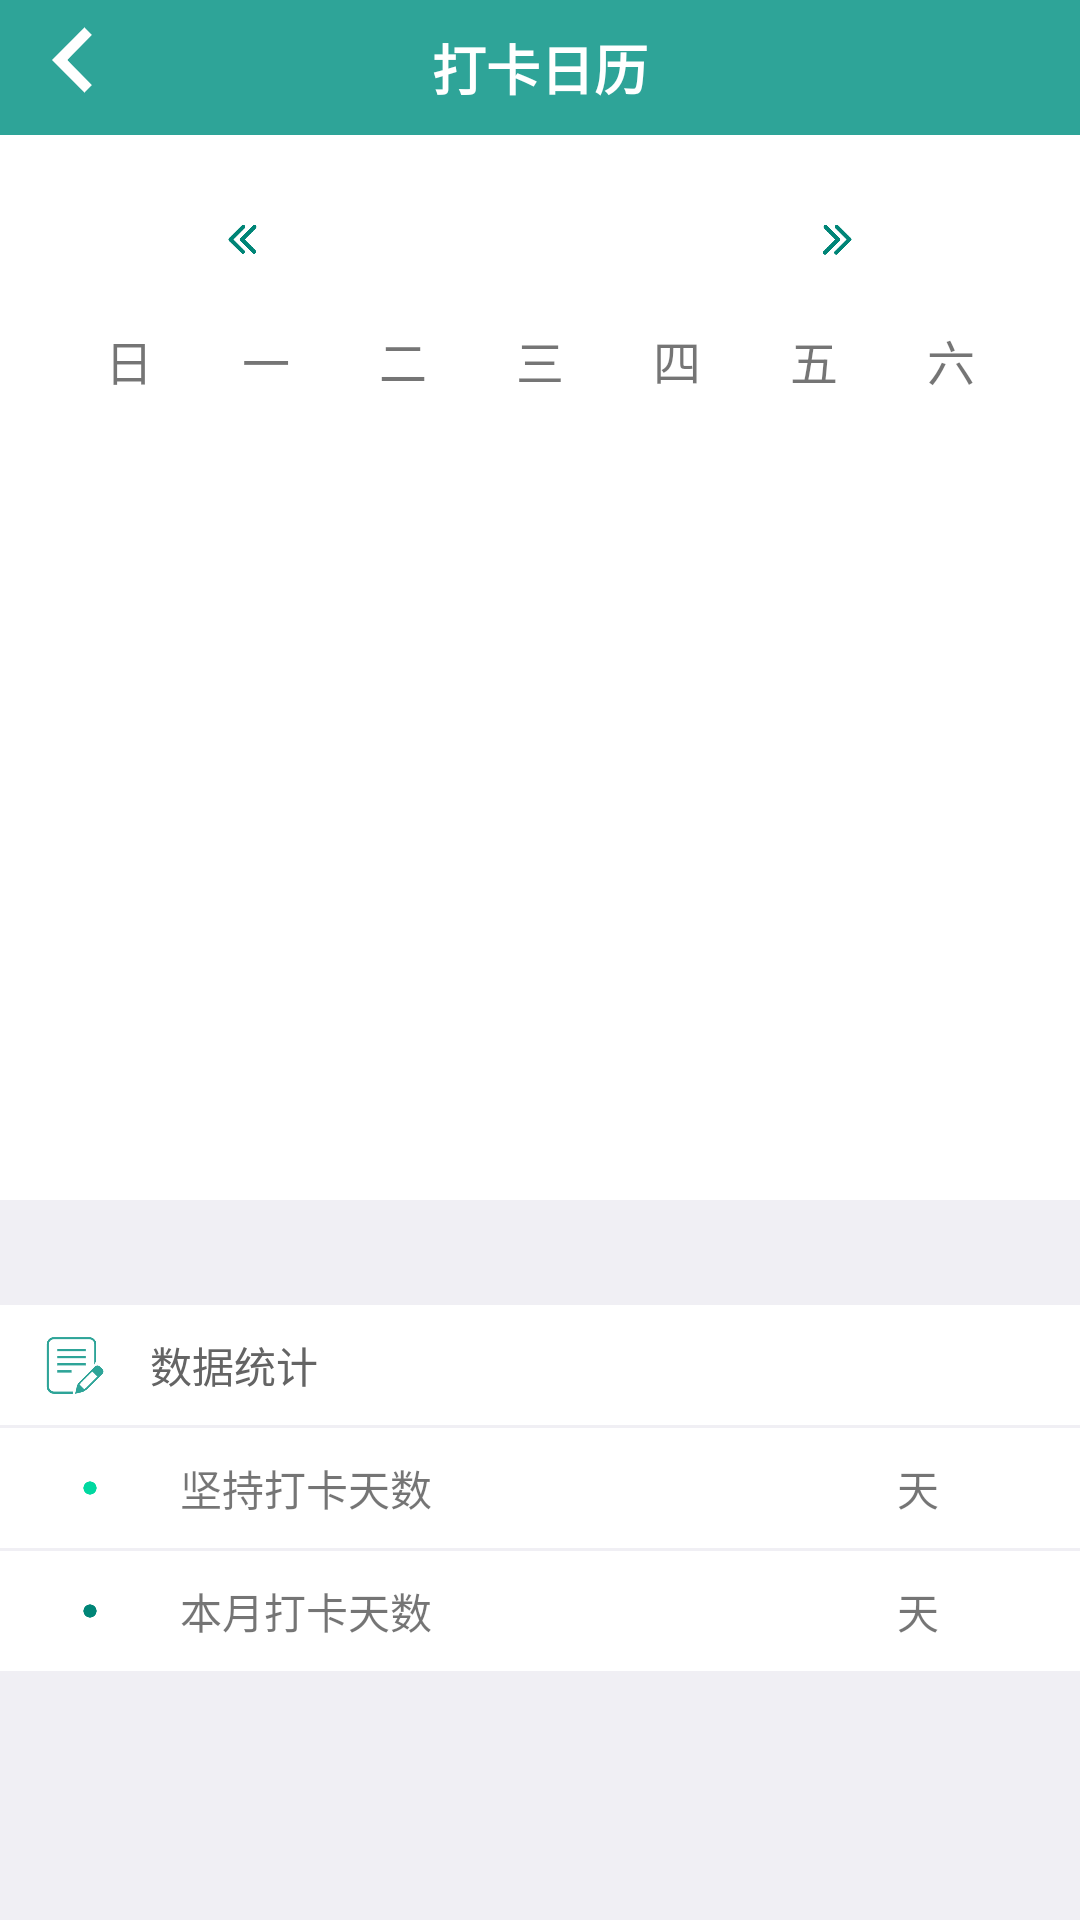

Point at icon controls on the screen. Image size 1080px x 1920px, points as [x,y].
back: [72,60]
left: [242,239]
little notes: [75,1365]
right: [837,240]
